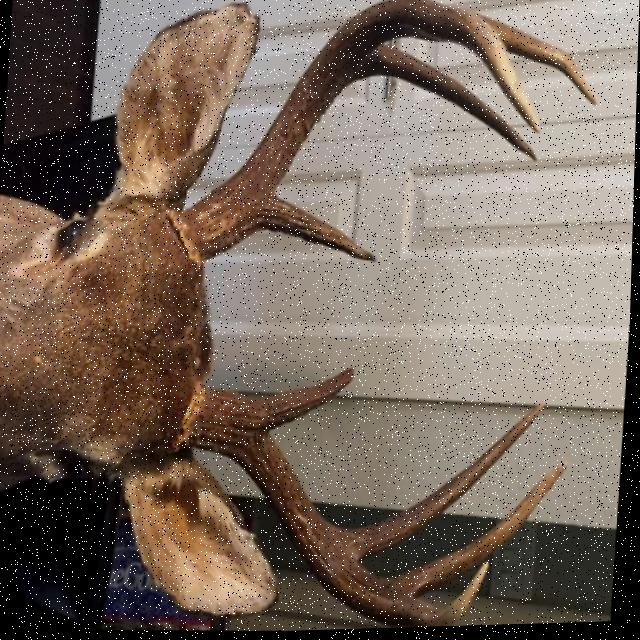L-F: (170, 386, 492, 631)
L-G1: (243, 369, 356, 441)
L-G2: (341, 404, 547, 560), (350, 47, 536, 165)
L-G3: (389, 466, 569, 600)
R-F: (170, 0, 542, 277)
R-G1: (256, 195, 379, 265)
